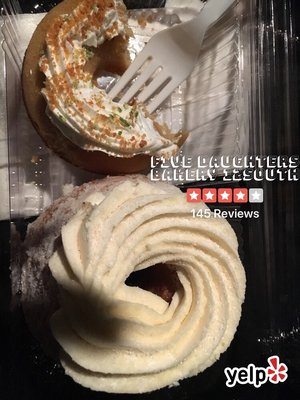burger: (104, 0, 238, 118)
pasta: (34, 176, 247, 393)
